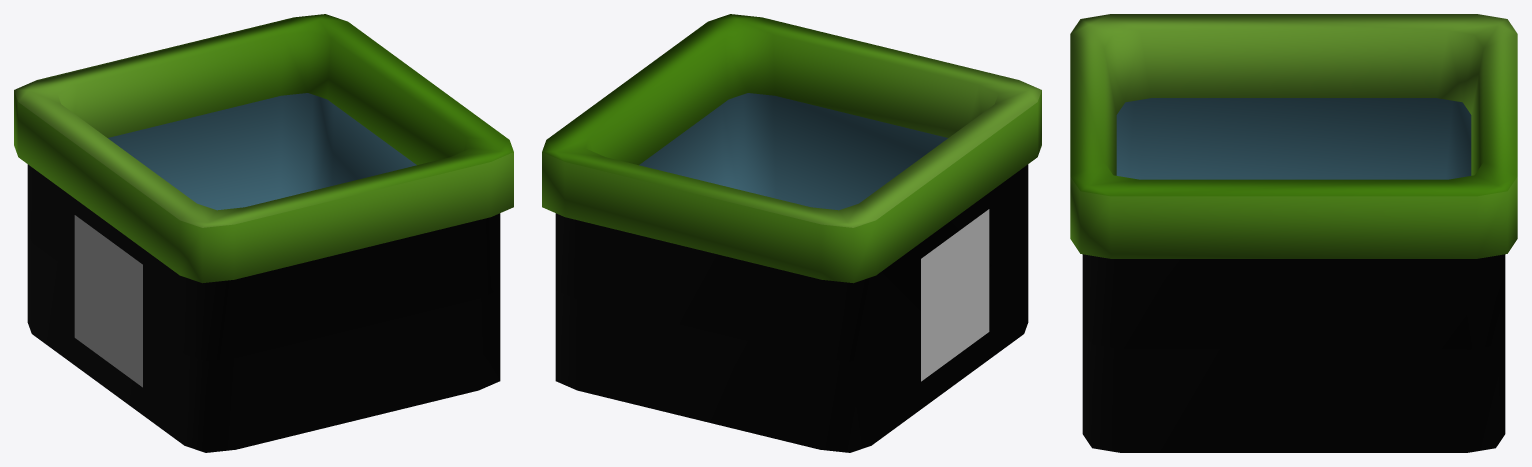
Rendered from PaeleraReciclaje.fbx.
The picture shows the model from 3 angles, left to right: view 1: azimuth 30°, elevation 25°; view 2: azimuth 150°, elevation 25°; view 3: azimuth 270°, elevation 25°; orthographic projection. The views are drawn at different scales.
Visible parts, largest first — view 1: Caja; view 2: Caja; view 3: Caja.
Boxes of the visible parts, bbox=[...] form: Caja: bbox=[14, 14, 513, 452]; Caja: bbox=[542, 14, 1041, 452]; Caja: bbox=[1070, 14, 1517, 452].
Size of the model in its own units: 22.65 by 15.15 by 23.49.
